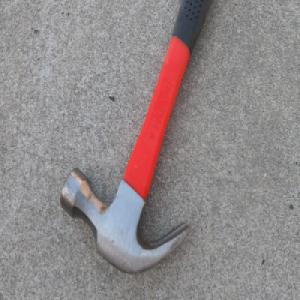Hammer: (59, 0, 218, 277)
